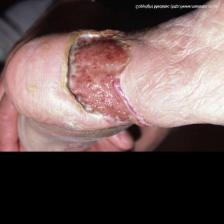Wound: (59, 28, 156, 130)
